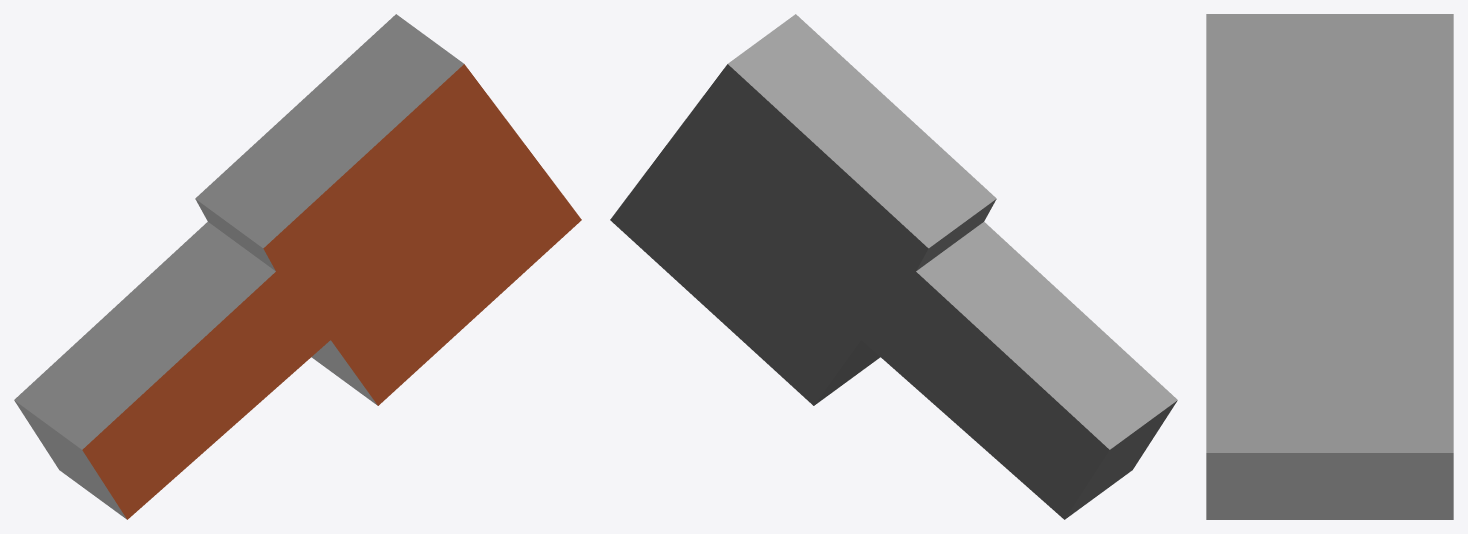
The model's file is construction_3377_assumed_A_Casa_h6m.obj.
3 renders of one model, left to right at view 1: azimuth 30°, elevation 25°; view 2: azimuth 150°, elevation 25°; view 3: azimuth 270°, elevation 25°, orthographic. The views are drawn at different scales.
Parts seen in each view (by area): view 1: construction_3377_assumed_A_Casa; view 2: construction_3377_assumed_A_Casa; view 3: construction_3377_assumed_A_Casa.
Part boxes in pixels (box(x1,y1,x2,y2)): construction_3377_assumed_A_Casa: box(14, 14, 581, 519); construction_3377_assumed_A_Casa: box(610, 14, 1177, 519); construction_3377_assumed_A_Casa: box(1206, 14, 1453, 519).
Size of the model in its own units: 25.39 by 18.15 by 6.
